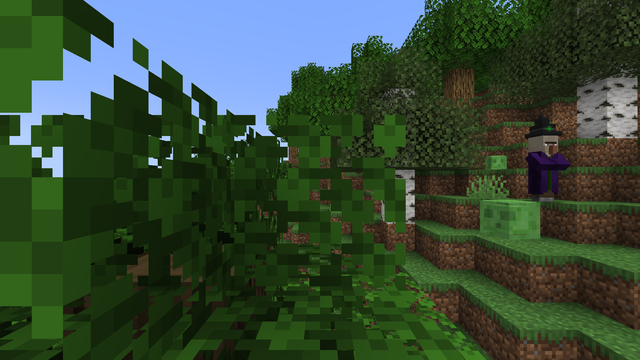slimes: (479, 198, 541, 239), (486, 154, 507, 169)
sorcieres: (524, 132, 562, 201)
